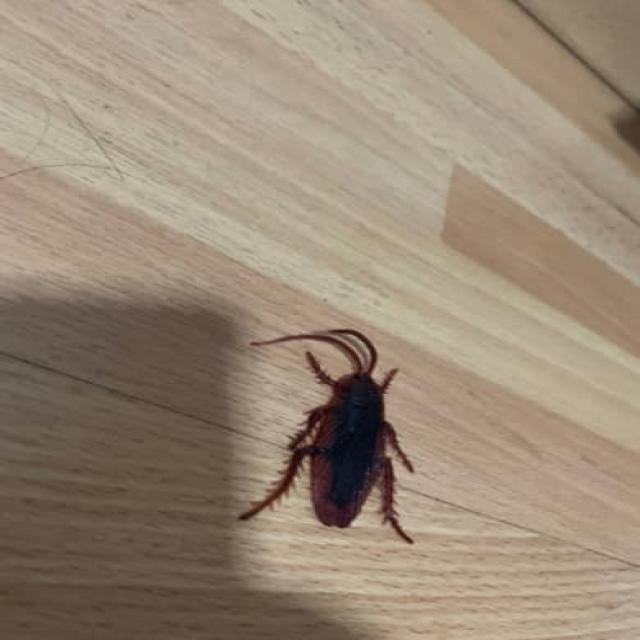Cockroach: (233, 314, 425, 554)
